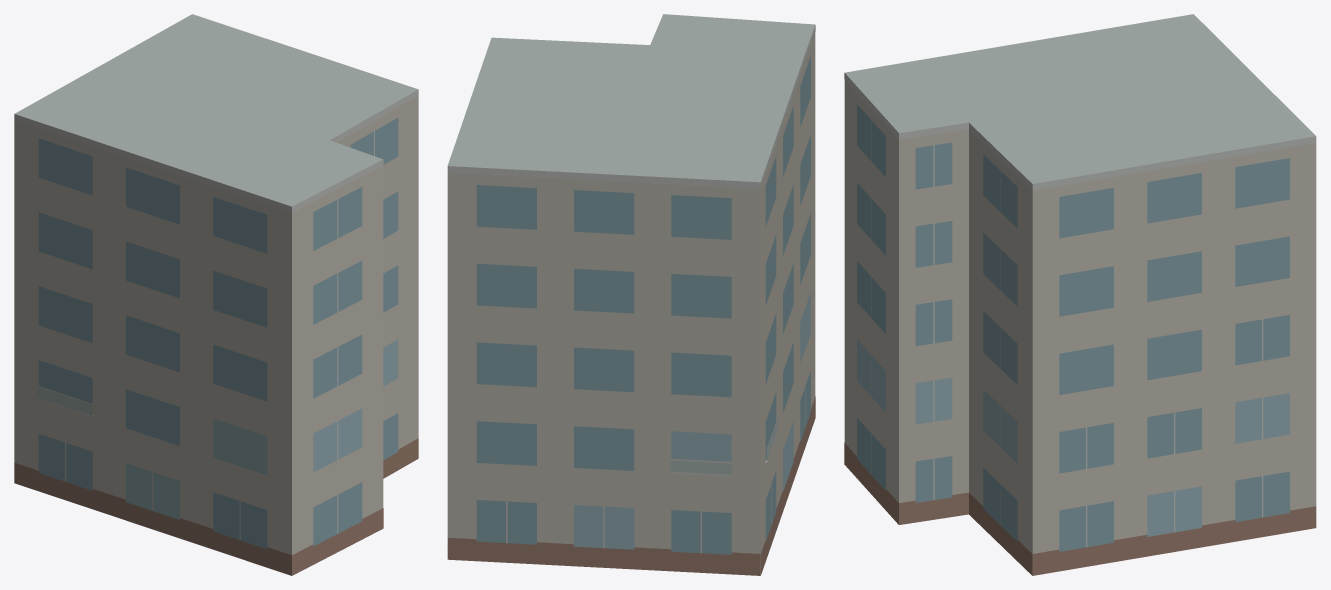
Rendered from survey-upis-32860458.glb.
3 views of the same model, side by side, from view 1: azimuth 30°, elevation 25°; view 2: azimuth 150°, elevation 25°; view 3: azimuth 270°, elevation 25° (orthographic). The views are drawn at different scales.
Parts seen in each view (by area): view 1: survey-upis-32860458.tmp; view 2: survey-upis-32860458.tmp; view 3: survey-upis-32860458.tmp.
Boxes of the visible parts, x1,y1,x2,y2 form: survey-upis-32860458.tmp: (14,14,418,575); survey-upis-32860458.tmp: (447,14,815,575); survey-upis-32860458.tmp: (844,14,1316,575).
Bounding box in the file's own units: 13.18 × 14.15 × 15.45.
